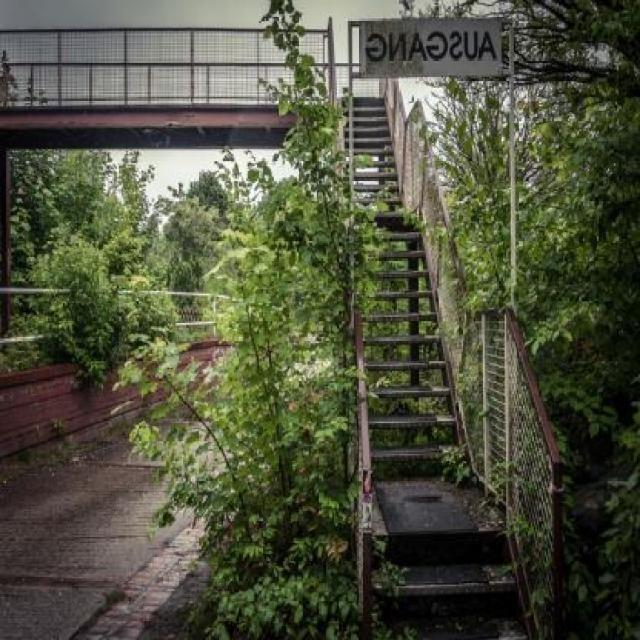stair: (337, 95, 466, 457), (364, 516, 534, 640)
